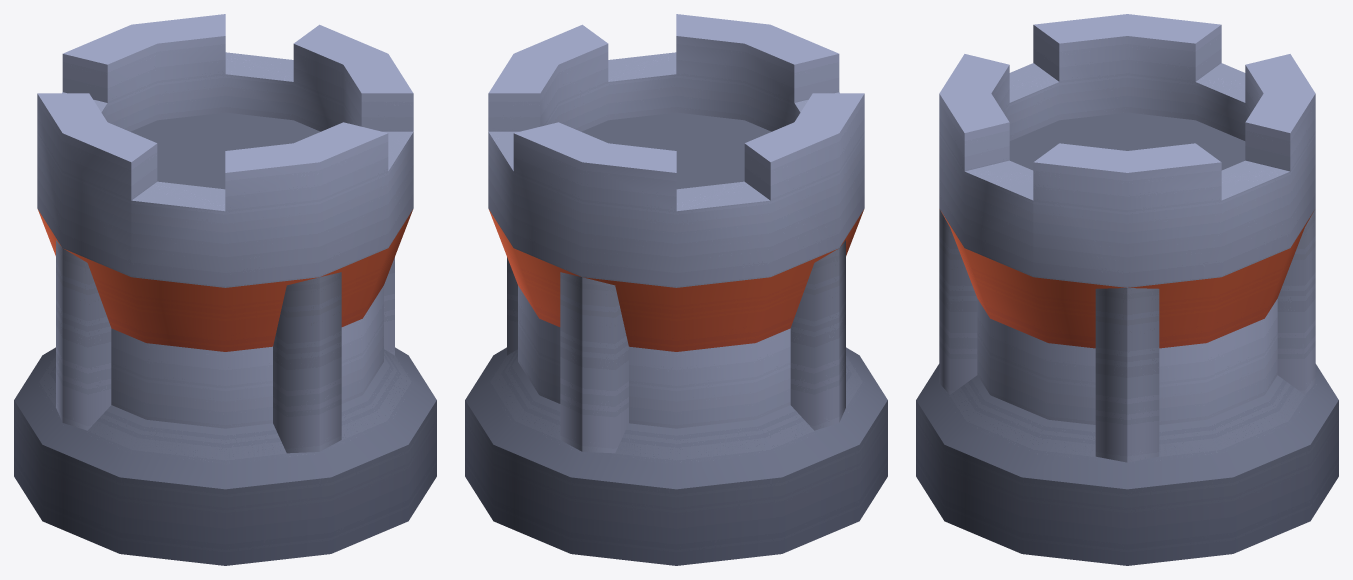
File: tower-round-build-a.glb
The picture shows the model from 3 angles, left to right: view 1: azimuth 30°, elevation 25°; view 2: azimuth 150°, elevation 25°; view 3: azimuth 270°, elevation 25°; orthographic projection.
Visible parts, largest first — view 1: tower-round-build-a; view 2: tower-round-build-a; view 3: tower-round-build-a.
Boxes of the visible parts, x1,y1,x2,y2 form: tower-round-build-a: (14, 14, 436, 565); tower-round-build-a: (465, 14, 887, 565); tower-round-build-a: (916, 14, 1338, 565).
Size of the model in its own units: 1 by 1 by 1.
Materials: 1 (1 with a texture image).
